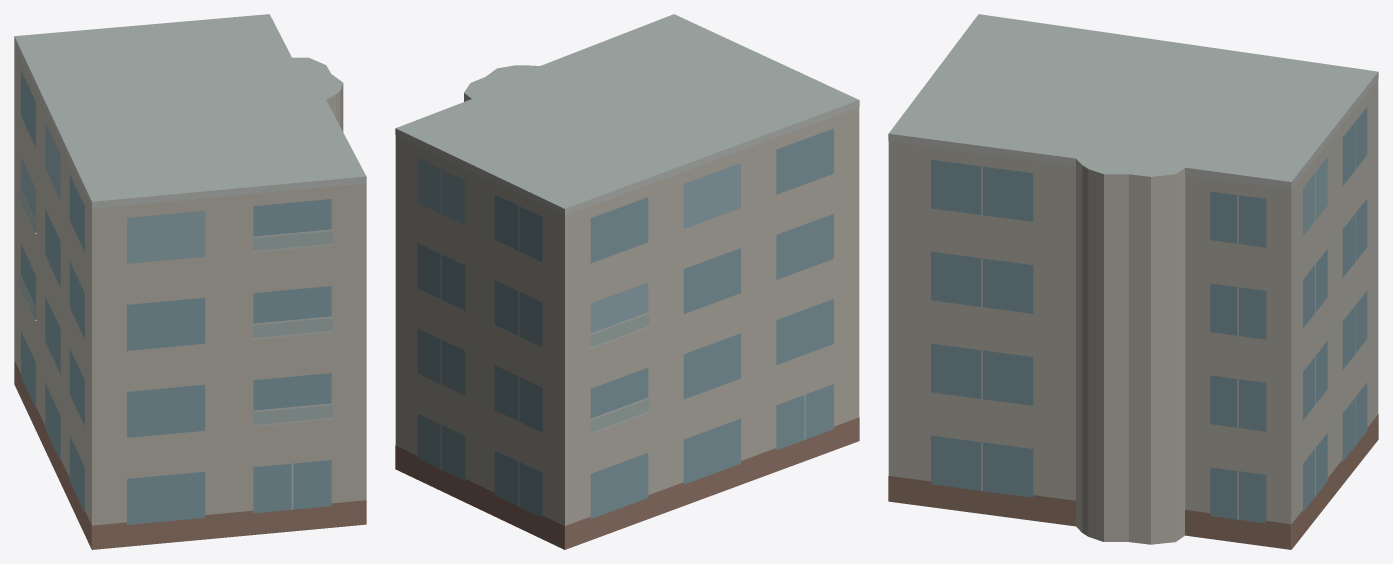
File: survey-upis-32703120.glb
3 views of the same model, side by side, from view 1: azimuth 30°, elevation 25°; view 2: azimuth 150°, elevation 25°; view 3: azimuth 270°, elevation 25° (orthographic). The views are drawn at different scales.
Parts seen in each view (by area): view 1: survey-upis-32703120.tmp; view 2: survey-upis-32703120.tmp; view 3: survey-upis-32703120.tmp.
Part boxes in pixels (x1,y1,x2,y2): survey-upis-32703120.tmp: (14, 14, 366, 549); survey-upis-32703120.tmp: (395, 14, 859, 549); survey-upis-32703120.tmp: (888, 14, 1378, 549).
Bounding box in the file's own units: 11.96 × 12.2 × 14.74.
